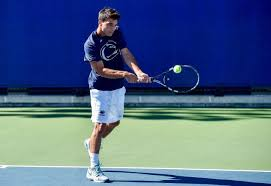tennis_ball: (171, 63, 182, 74)
